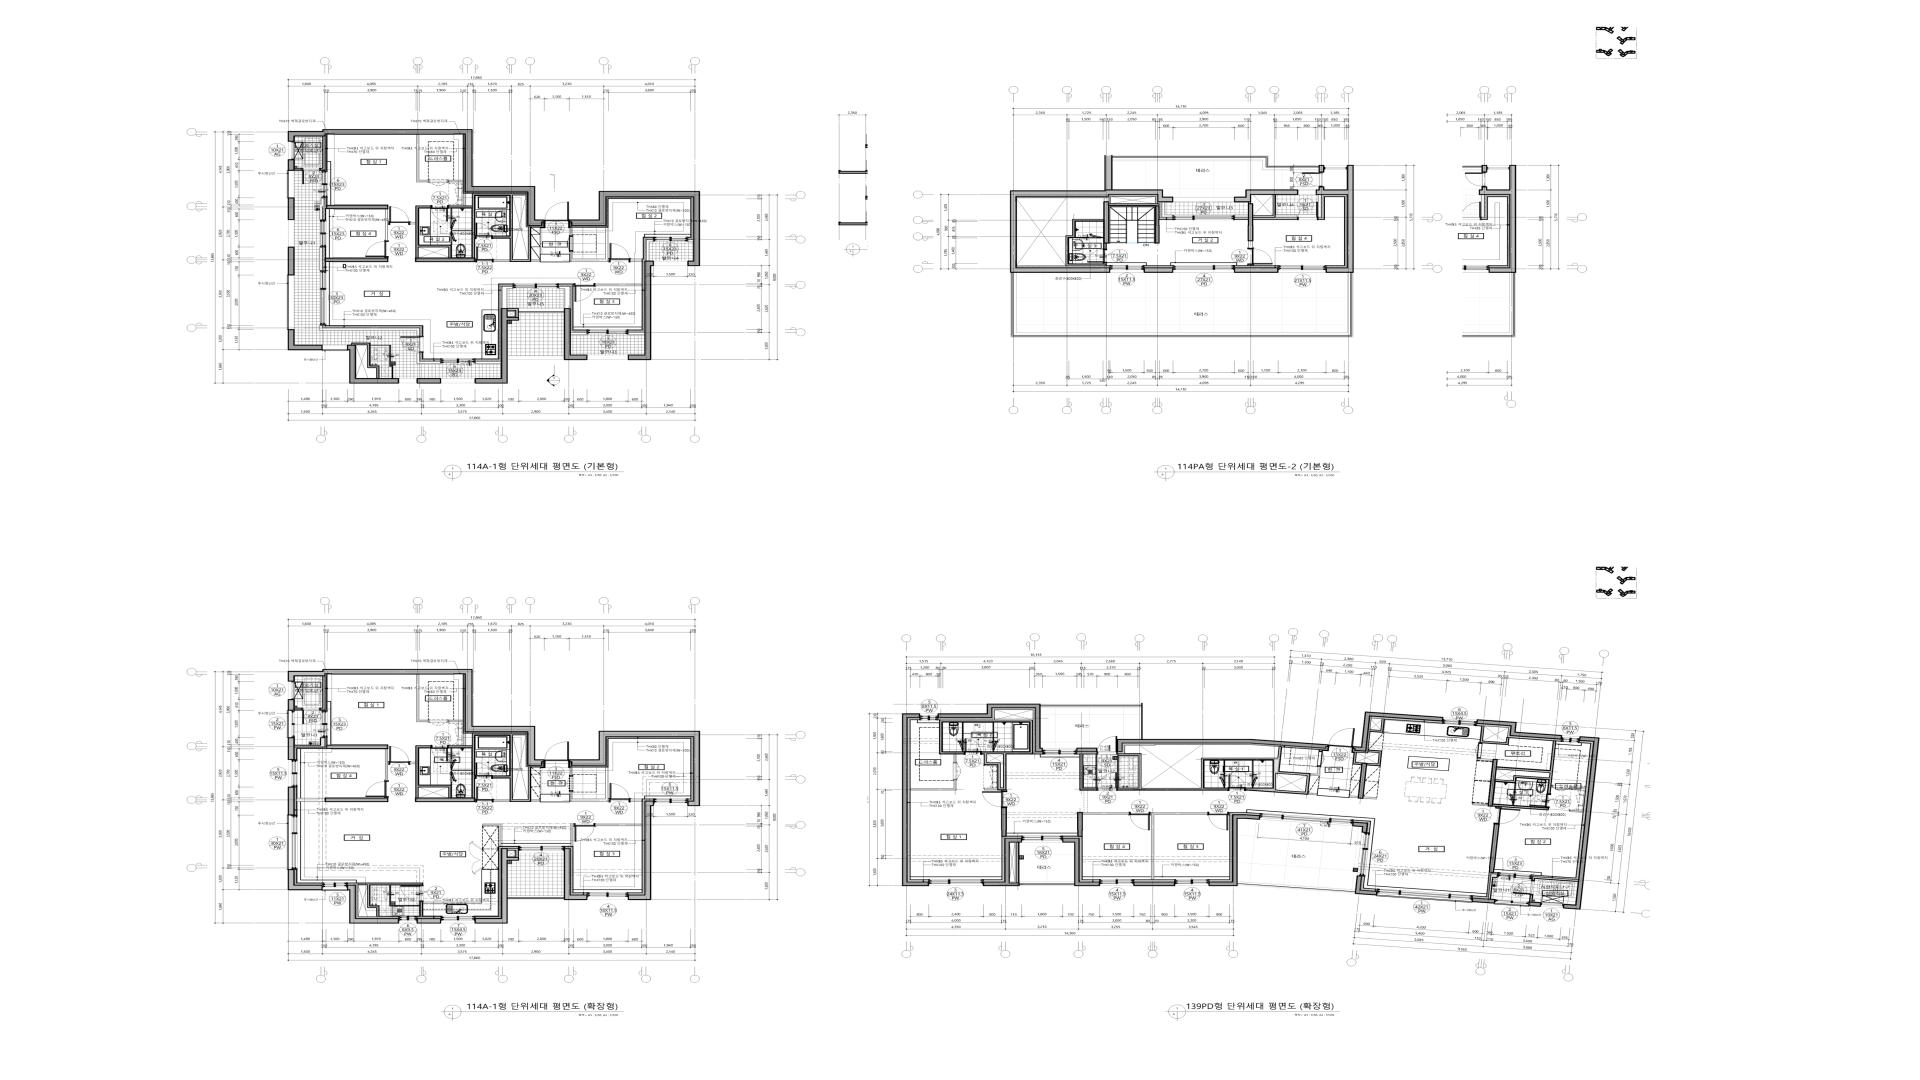door: (544, 742, 569, 768), (544, 203, 569, 228), (1329, 727, 1356, 749), (1494, 807, 1521, 826), (1247, 248, 1273, 265), (608, 783, 630, 803), (608, 243, 630, 263), (982, 791, 1007, 808), (1129, 812, 1151, 831), (1208, 812, 1230, 831), (573, 823, 595, 842), (573, 283, 595, 302), (365, 781, 389, 798), (365, 241, 389, 258), (400, 336, 424, 353), (1097, 772, 1118, 791), (388, 746, 409, 765), (388, 206, 409, 225), (400, 886, 423, 902), (1097, 736, 1117, 754), (1298, 202, 1318, 220), (1513, 880, 1535, 895), (1529, 793, 1551, 808), (964, 738, 982, 755), (431, 205, 449, 222), (1087, 249, 1107, 264), (431, 745, 448, 762), (475, 763, 493, 779), (302, 708, 320, 724), (1228, 775, 1246, 791), (475, 787, 493, 803), (475, 247, 493, 263), (475, 223, 493, 239), (302, 168, 320, 184), (1302, 173, 1323, 186), (953, 763, 962, 780), (1551, 785, 1572, 792), (428, 719, 448, 726), (1474, 743, 1483, 758), (428, 180, 449, 186)
wall: (288, 669, 544, 766), (288, 129, 544, 226), (1011, 273, 1353, 337), (1010, 155, 1173, 273), (1118, 746, 1321, 795), (569, 731, 700, 806), (569, 191, 700, 266), (939, 720, 1033, 791), (448, 733, 540, 802), (449, 193, 540, 262), (1564, 736, 1600, 910), (938, 704, 1043, 752), (902, 713, 929, 886), (1316, 165, 1354, 273), (1151, 813, 1208, 880), (1041, 703, 1143, 739), (1209, 814, 1260, 886), (1353, 712, 1444, 752), (475, 848, 519, 924), (475, 308, 519, 384), (1496, 740, 1557, 794), (1113, 156, 1319, 170), (1117, 739, 1329, 752), (628, 801, 654, 900), (628, 261, 654, 360), (409, 745, 452, 798), (358, 883, 423, 917), (410, 206, 452, 257), (347, 885, 399, 924), (347, 345, 399, 384), (1066, 219, 1107, 266), (983, 838, 1022, 886), (1062, 838, 1100, 886), (1477, 719, 1562, 740), (570, 768, 608, 802), (570, 228, 608, 262), (1238, 882, 1355, 893), (564, 848, 588, 900), (564, 308, 587, 360), (319, 325, 420, 336), (1253, 195, 1297, 218), (351, 343, 379, 378), (1234, 189, 1299, 202), (287, 329, 322, 351), (288, 869, 322, 891), (1079, 754, 1097, 791), (1480, 726, 1510, 745), (416, 675, 428, 722), (416, 135, 428, 182), (1489, 824, 1500, 873), (1488, 759, 1498, 807), (910, 780, 957, 790), (1355, 876, 1377, 896), (482, 824, 501, 846), (1493, 804, 1549, 811), (1358, 763, 1368, 799), (326, 744, 388, 749), (327, 205, 388, 210), (1532, 876, 1578, 882), (416, 353, 441, 364), (1234, 267, 1279, 273), (295, 738, 325, 747), (501, 286, 513, 308), (1103, 201, 1109, 244), (324, 798, 388, 802), (1367, 750, 1383, 766), (1488, 874, 1498, 899), (326, 258, 388, 262), (559, 286, 570, 308), (415, 798, 475, 802), (415, 258, 475, 262), (1248, 203, 1254, 241), (508, 896, 564, 900), (1020, 882, 1074, 886), (1370, 719, 1385, 733), (287, 787, 294, 816), (288, 247, 295, 276), (1155, 206, 1160, 244), (1162, 202, 1173, 218), (1352, 822, 1368, 833), (320, 676, 325, 711), (1144, 267, 1173, 273), (1001, 808, 1007, 837), (320, 137, 325, 171), (1134, 882, 1175, 886), (1016, 843, 1020, 883), (288, 738, 295, 760), (288, 198, 295, 220), (1109, 203, 1159, 206), (416, 918, 441, 924), (1077, 812, 1083, 837), (646, 240, 653, 261), (417, 378, 441, 384), (1473, 898, 1496, 904), (1352, 752, 1362, 765), (319, 198, 324, 220), (297, 798, 324, 802), (508, 848, 519, 857), (508, 308, 519, 317), (385, 749, 388, 781), (319, 247, 323, 271), (595, 824, 642, 826), (595, 284, 642, 286), (385, 210, 388, 241), (1318, 195, 1322, 218), (1083, 813, 1129, 815), (288, 699, 295, 711), (1076, 748, 1097, 752), (288, 159, 295, 171), (475, 361, 501, 364), (570, 824, 573, 846), (1529, 902, 1541, 907), (419, 902, 423, 917), (1477, 758, 1493, 761), (571, 332, 587, 335), (1473, 803, 1488, 806), (1569, 810, 1583, 813), (1319, 165, 1324, 173), (1364, 797, 1377, 800), (630, 799, 642, 802), (630, 259, 642, 262), (1248, 241, 1253, 248), (1529, 895, 1534, 902), (1571, 787, 1586, 789), (449, 720, 463, 722), (449, 180, 463, 182), (1235, 215, 1248, 217), (295, 708, 302, 711), (295, 168, 302, 171), (1103, 244, 1107, 249), (570, 767, 572, 776), (1349, 796, 1358, 798), (570, 228, 572, 236), (1104, 198, 1109, 201), (688, 240, 693, 242)
window: (1376, 889, 1473, 903), (1260, 813, 1353, 826), (1357, 833, 1370, 876), (287, 816, 297, 869), (1173, 265, 1234, 272), (929, 879, 983, 886), (1279, 265, 1326, 273), (287, 276, 294, 329), (587, 892, 628, 900), (320, 271, 326, 325), (519, 846, 564, 853), (1173, 215, 1235, 220), (1443, 717, 1477, 726), (1173, 197, 1234, 202), (513, 283, 559, 289), (1495, 899, 1529, 907), (1498, 872, 1532, 880), (654, 798, 687, 806), (587, 329, 628, 335), (288, 760, 297, 787), (1022, 836, 1062, 842), (1175, 879, 1209, 886), (1100, 879, 1134, 886), (441, 916, 475, 923), (1110, 265, 1144, 272), (1043, 748, 1076, 755), (508, 356, 564, 360), (286, 171, 294, 198), (287, 711, 295, 737), (441, 358, 475, 364), (587, 355, 627, 360), (323, 883, 347, 891), (320, 711, 327, 738), (519, 309, 564, 313), (653, 237, 688, 242), (654, 261, 687, 266), (321, 171, 327, 198), (320, 220, 326, 247), (288, 220, 294, 247), (322, 345, 347, 351), (1541, 902, 1564, 908), (441, 379, 474, 383), (1562, 736, 1580, 743), (399, 916, 416, 923), (1325, 165, 1347, 170), (920, 714, 938, 720), (288, 682, 294, 699), (288, 142, 294, 159), (1299, 190, 1316, 195), (399, 379, 416, 383)
